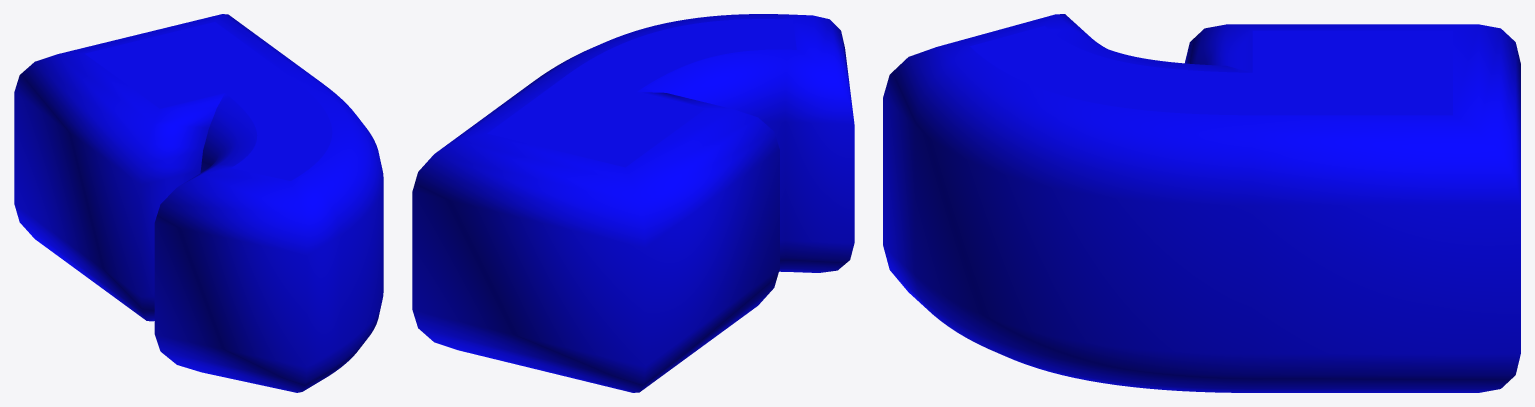
3 renders of one model, left to right at view 1: azimuth 30°, elevation 25°; view 2: azimuth 150°, elevation 25°; view 3: azimuth 270°, elevation 25°, orthographic. The views are drawn at different scales.
Visible parts, largest first — view 1: texto; view 2: texto; view 3: texto.
Part boxes in pixels (x1,y1,x2,y2): texto: (14, 14, 383, 392); texto: (412, 14, 854, 392); texto: (883, 14, 1520, 392).
Bounding box in the file's own units: 0.2789 × 0.22 × 0.4685.
